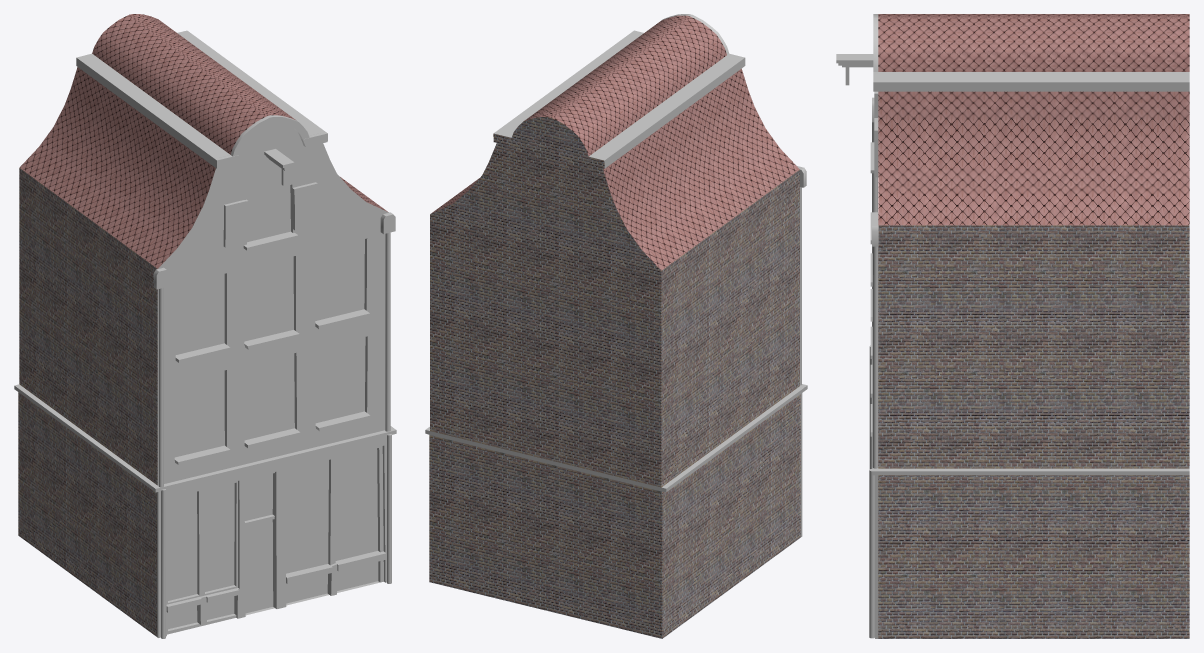
Rendered from city3_h17.fbx.
The picture shows the model from 3 angles, left to right: view 1: azimuth 30°, elevation 25°; view 2: azimuth 150°, elevation 25°; view 3: azimuth 270°, elevation 25°; orthographic projection. The views are drawn at different scales.
Parts seen in each view (by area): view 1: Default_Layer; view 2: Default_Layer; view 3: Default_Layer.
Part boxes in pixels (box(x1,y1,x2,y2)): Default_Layer: box(14, 14, 396, 638); Default_Layer: box(425, 14, 807, 638); Default_Layer: box(836, 14, 1189, 638).
Bounding box in the file's own units: 497 × 974 × 562.
